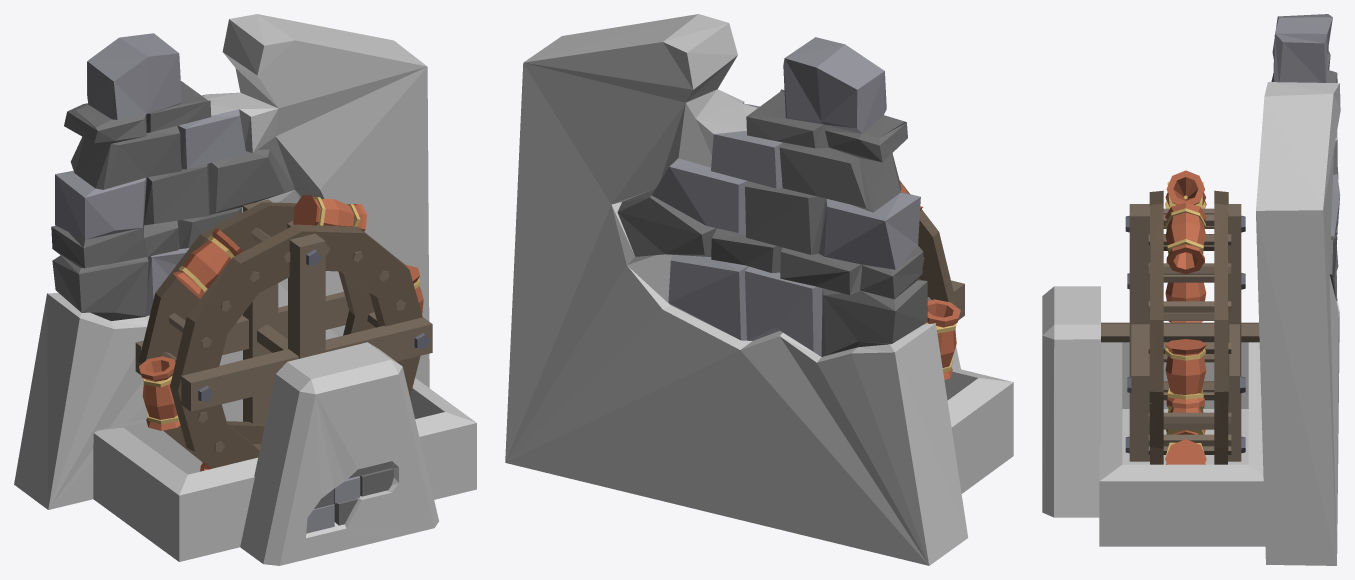
File: water_wheel.glb
The picture shows the model from 3 angles, left to right: view 1: azimuth 30°, elevation 25°; view 2: azimuth 150°, elevation 25°; view 3: azimuth 270°, elevation 25°; orthographic projection. The views are drawn at different scales.
Parts seen in each view (by area): view 1: waterwheel; view 2: waterwheel; view 3: waterwheel.
Part boxes in pixels (box(x1,y1,x2,y2)): waterwheel: box(14, 14, 476, 565); waterwheel: box(505, 14, 1013, 565); waterwheel: box(1042, 14, 1340, 565).
Bounding box in the file's own units: 3.77 × 3.99 × 2.59.
Materials: 1 (1 with a texture image).
